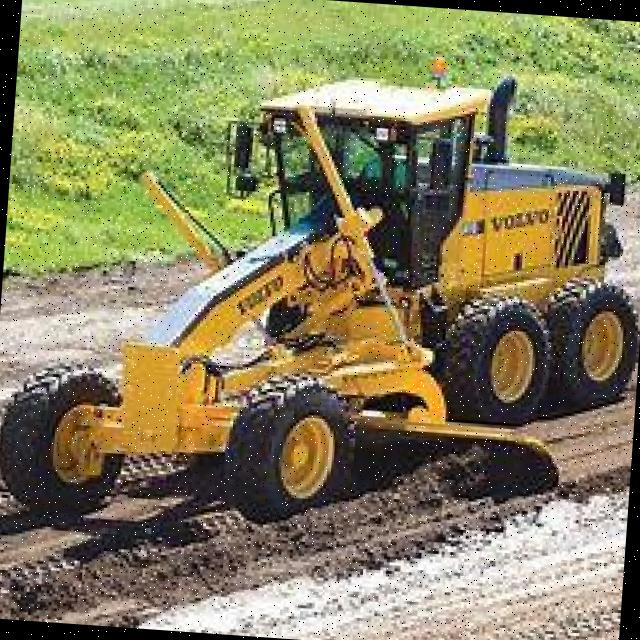Grader: (11, 35, 640, 568)
